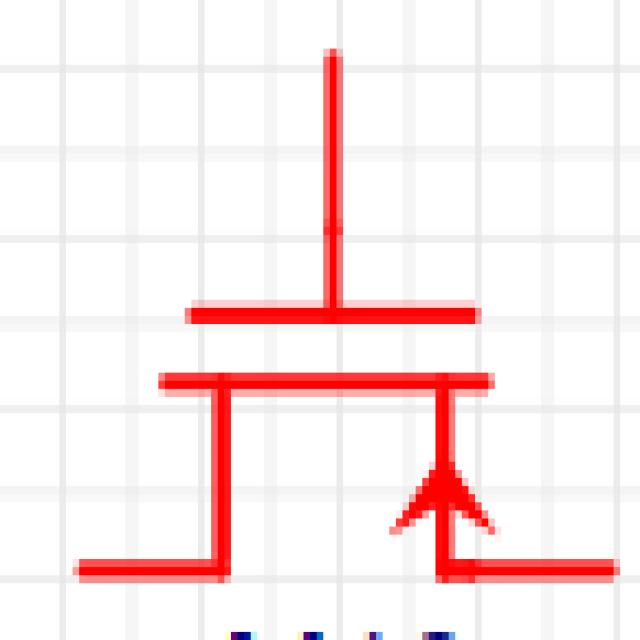pmos: (49, 43, 611, 632)
